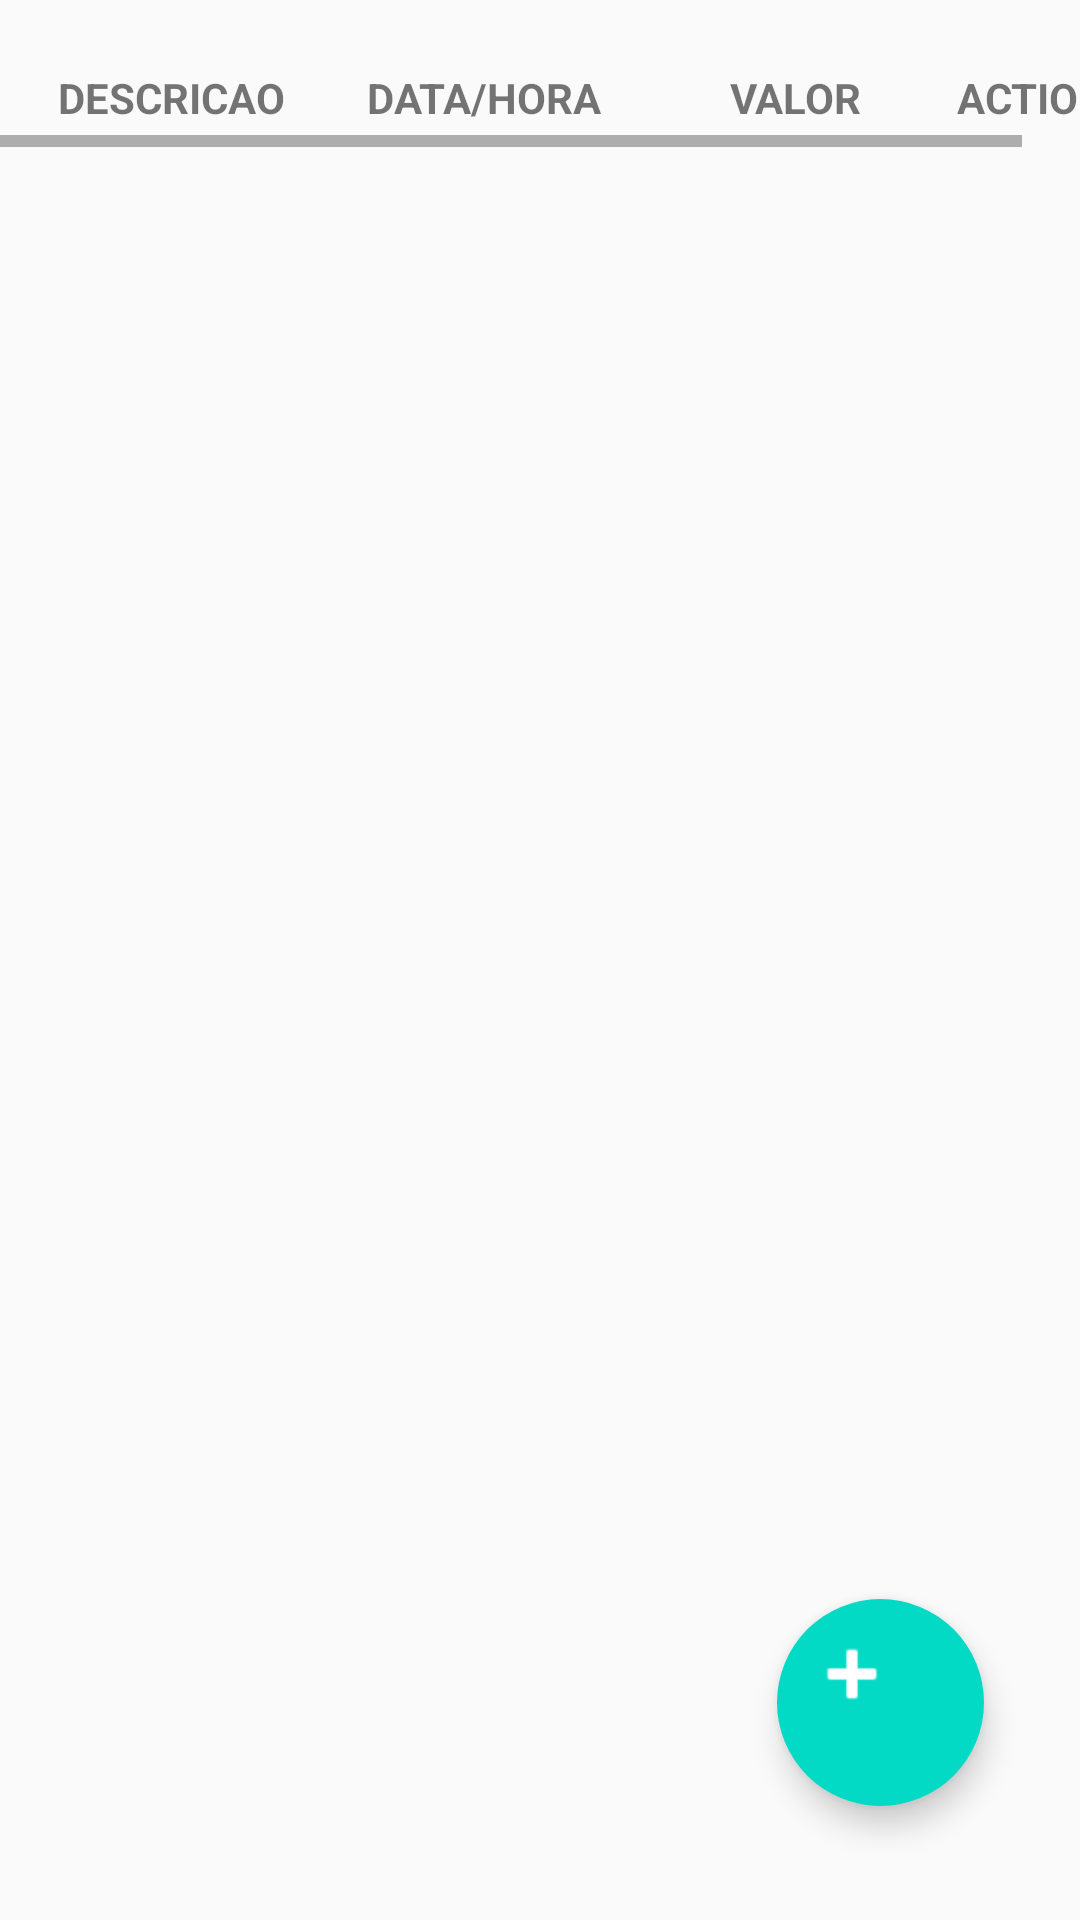

Icon click points for this 1080px x 1920px phone screenshot, format (x=x, y=y):
add: (x=882, y=1711)
